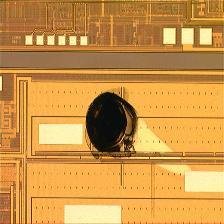PARTICLE: (82, 86, 195, 181)
